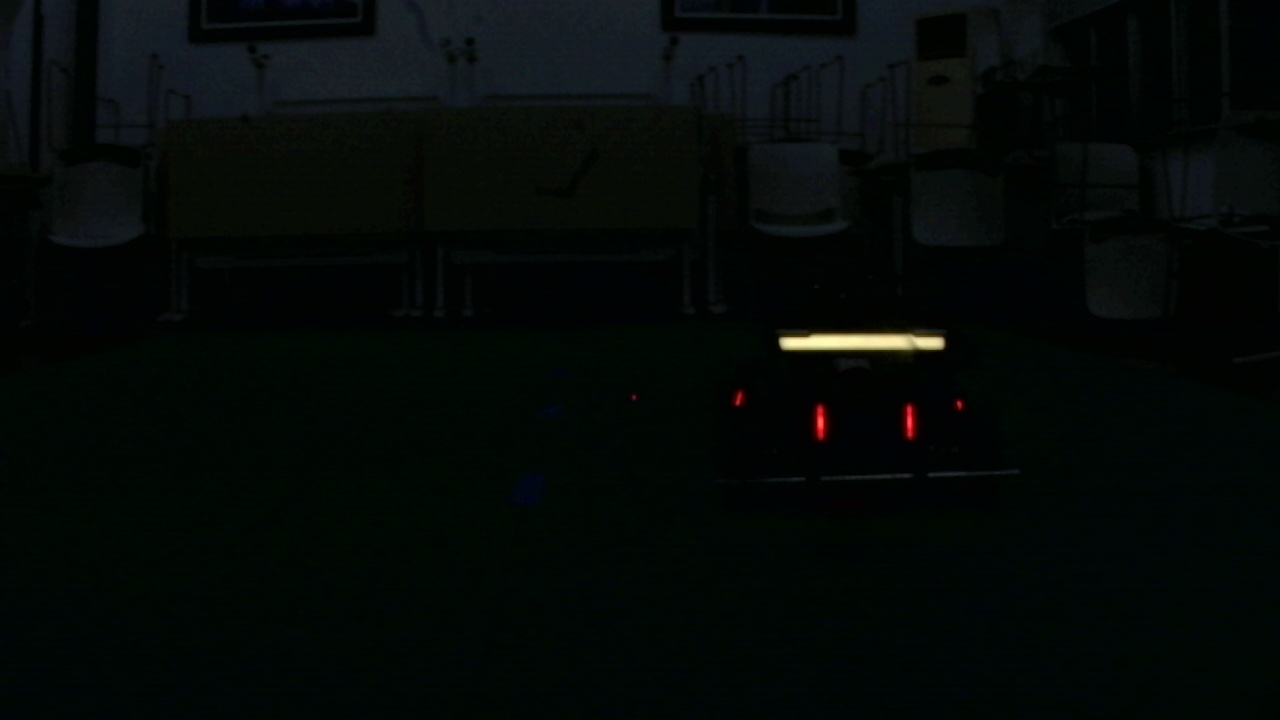lamp: (901, 400, 916, 444), (812, 401, 827, 442)
pair1: (816, 405, 914, 439)
